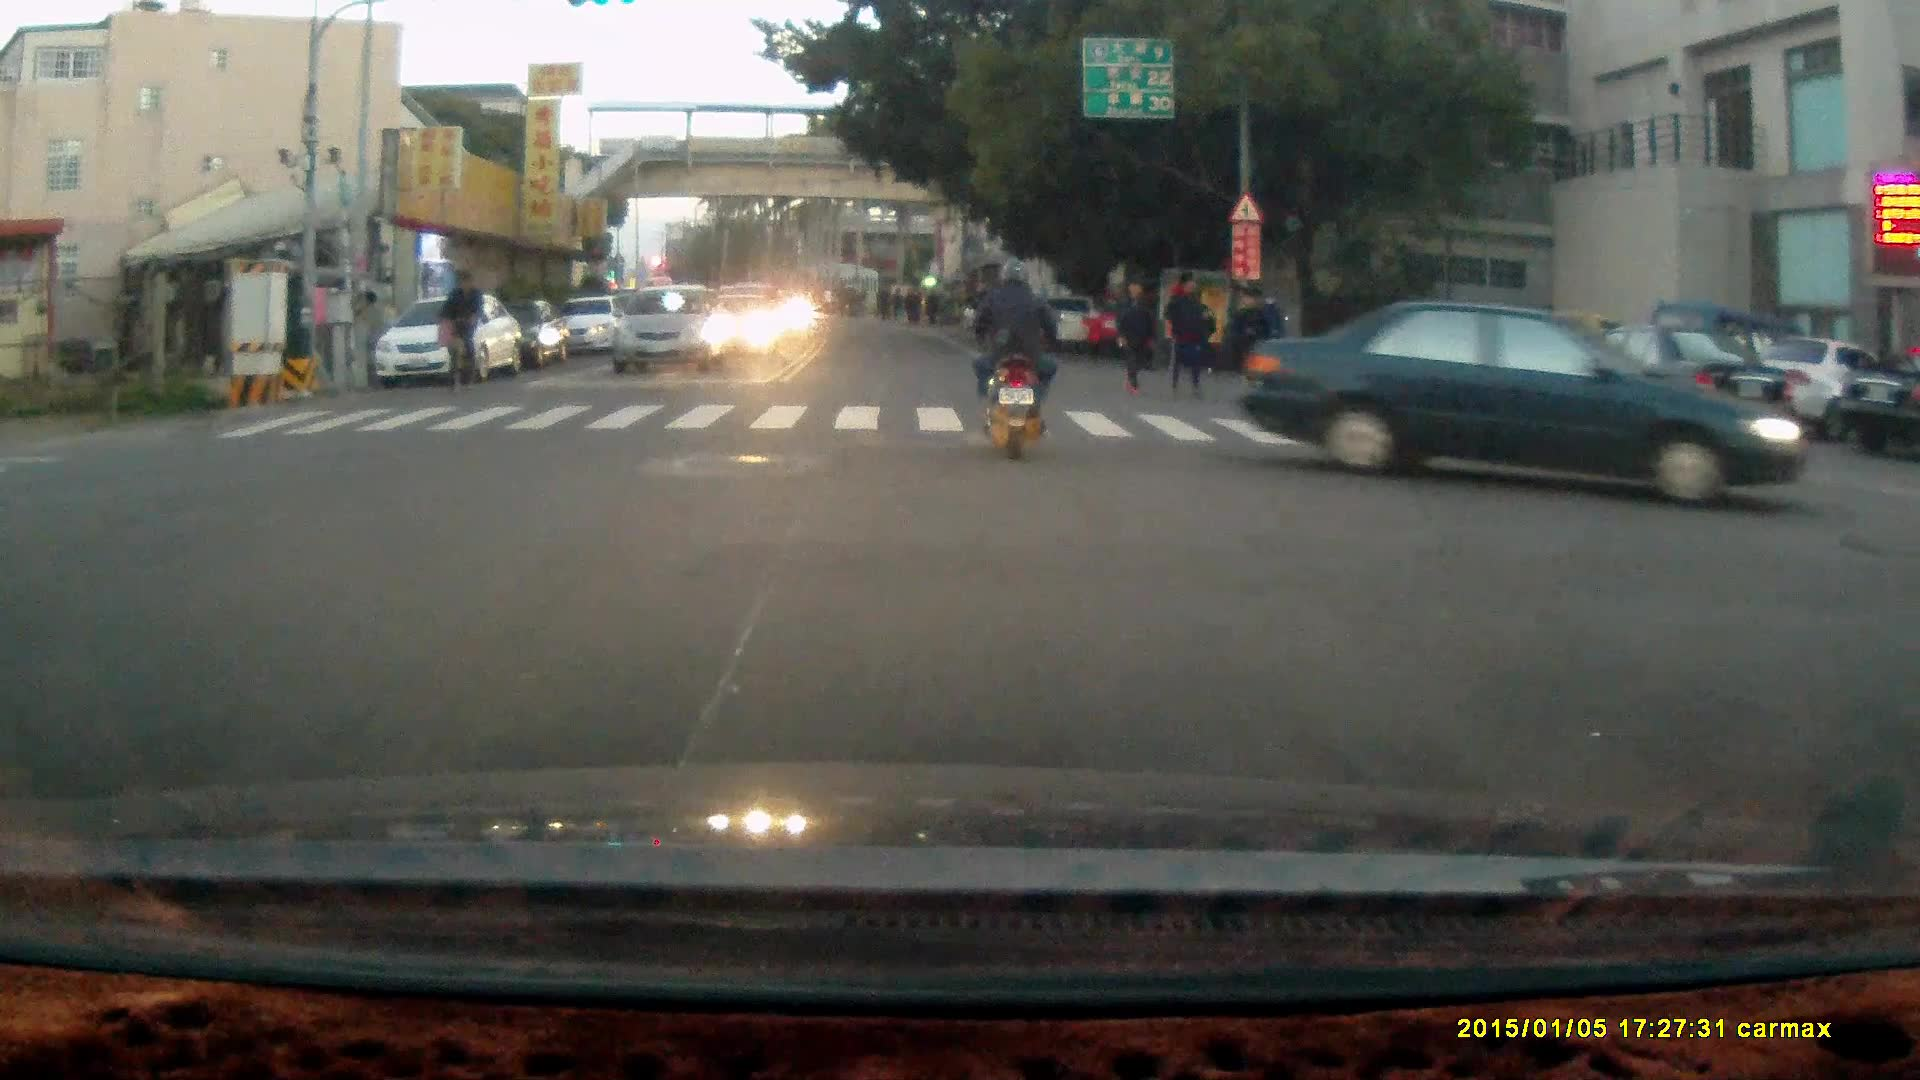pedestrian: (1166, 268, 1206, 399), (1112, 278, 1155, 400), (1228, 283, 1267, 399)
rider: (964, 256, 1059, 463), (435, 268, 481, 394)
vehicle: (1232, 293, 1824, 509), (1729, 337, 1906, 441), (371, 293, 530, 392), (605, 288, 734, 382), (1836, 358, 1920, 465), (1090, 297, 1206, 366)
